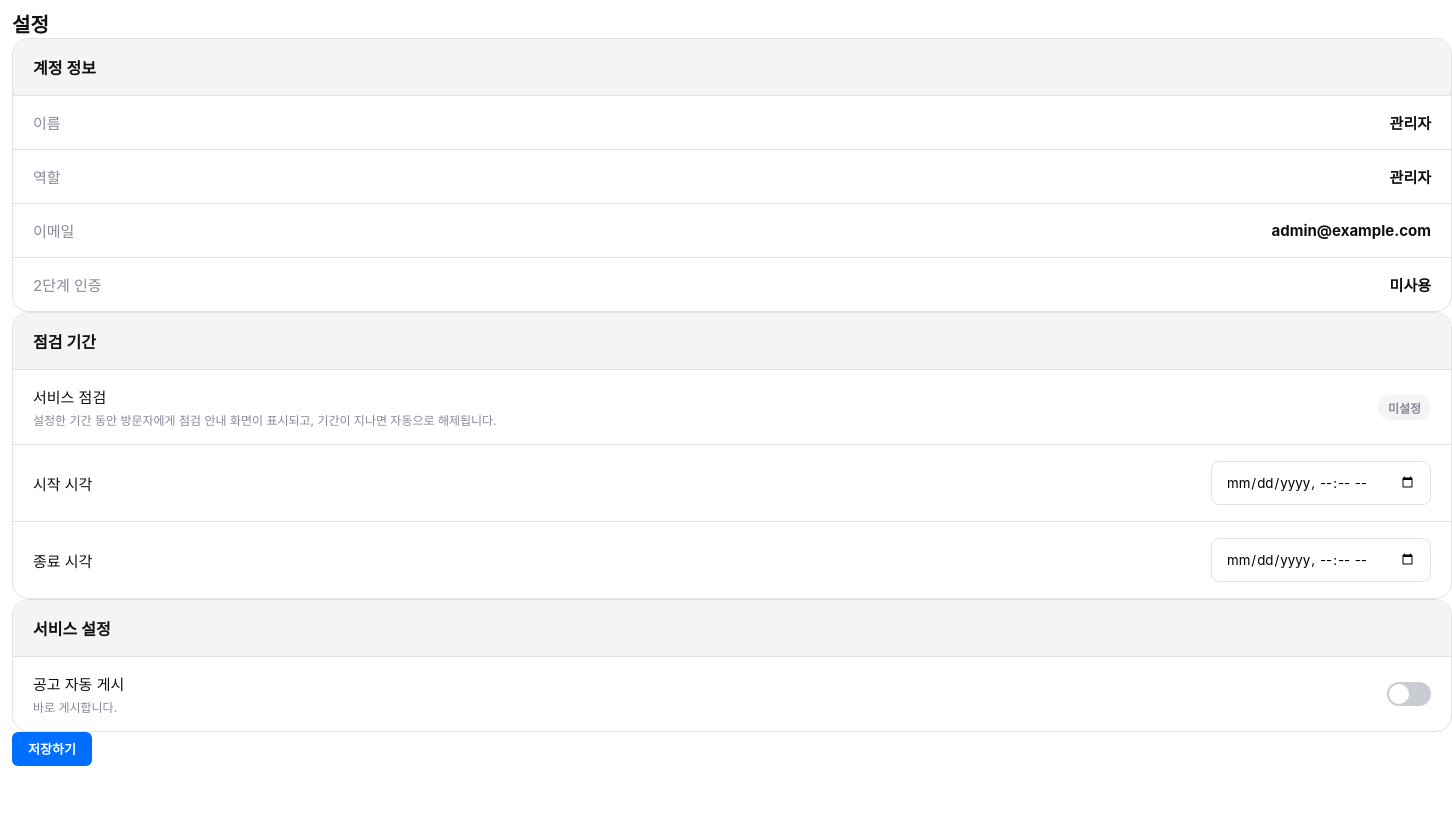
AdminSettingsScreen › 기간을 입력하는 동안 상태 배지가 입력값 기준으로 바뀐다
Check: the text "미설정" is shown, box [1378,394,1431,420]
Type "2099-02-02T01:00" into the field named "점검 시작 시각" at (1321, 483), box [1211,461,1431,505]
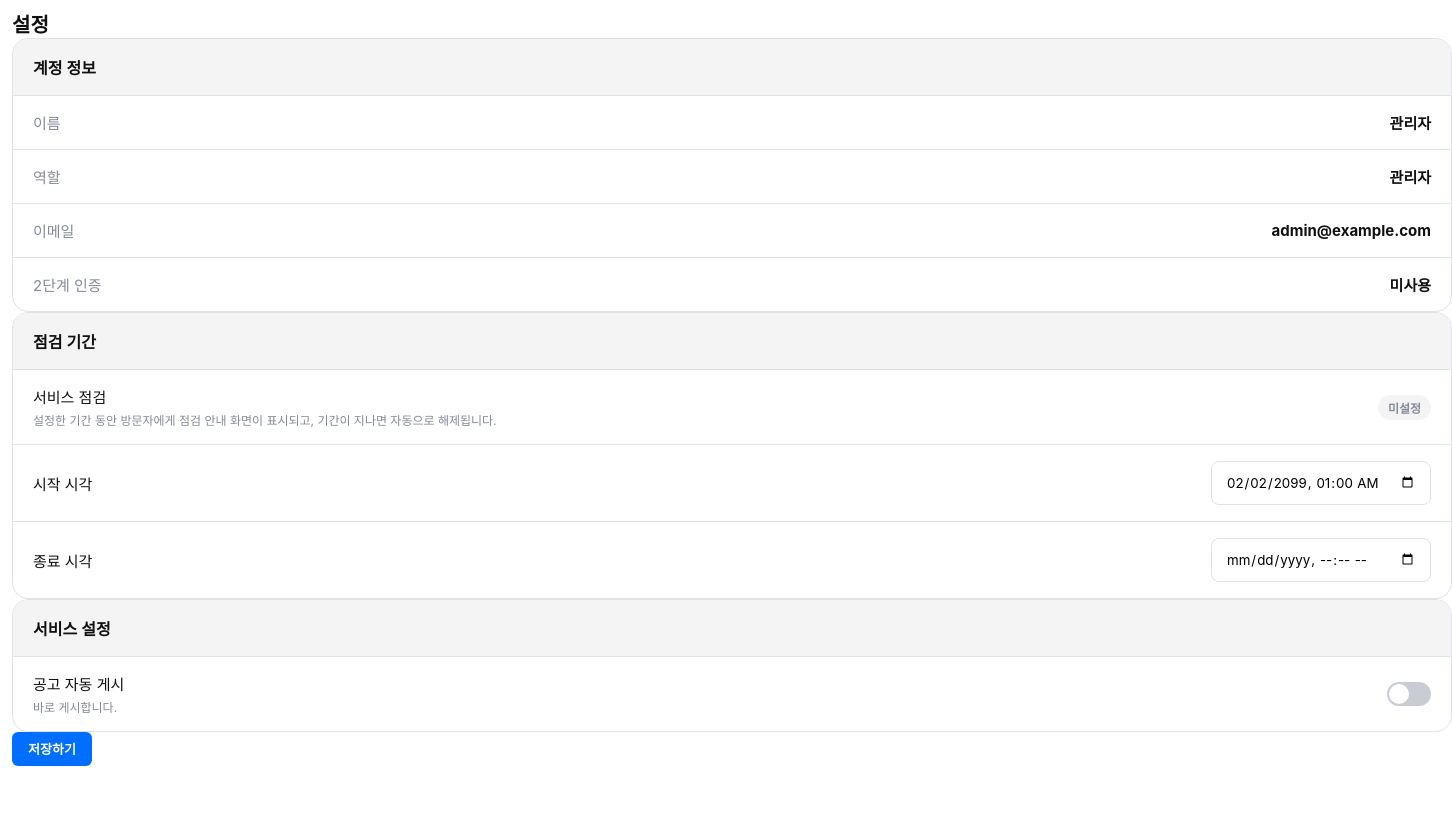
Type "2099-02-02T03:00" into the field named "점검 종료 시각" at (1321, 560), box [1211,538,1431,582]
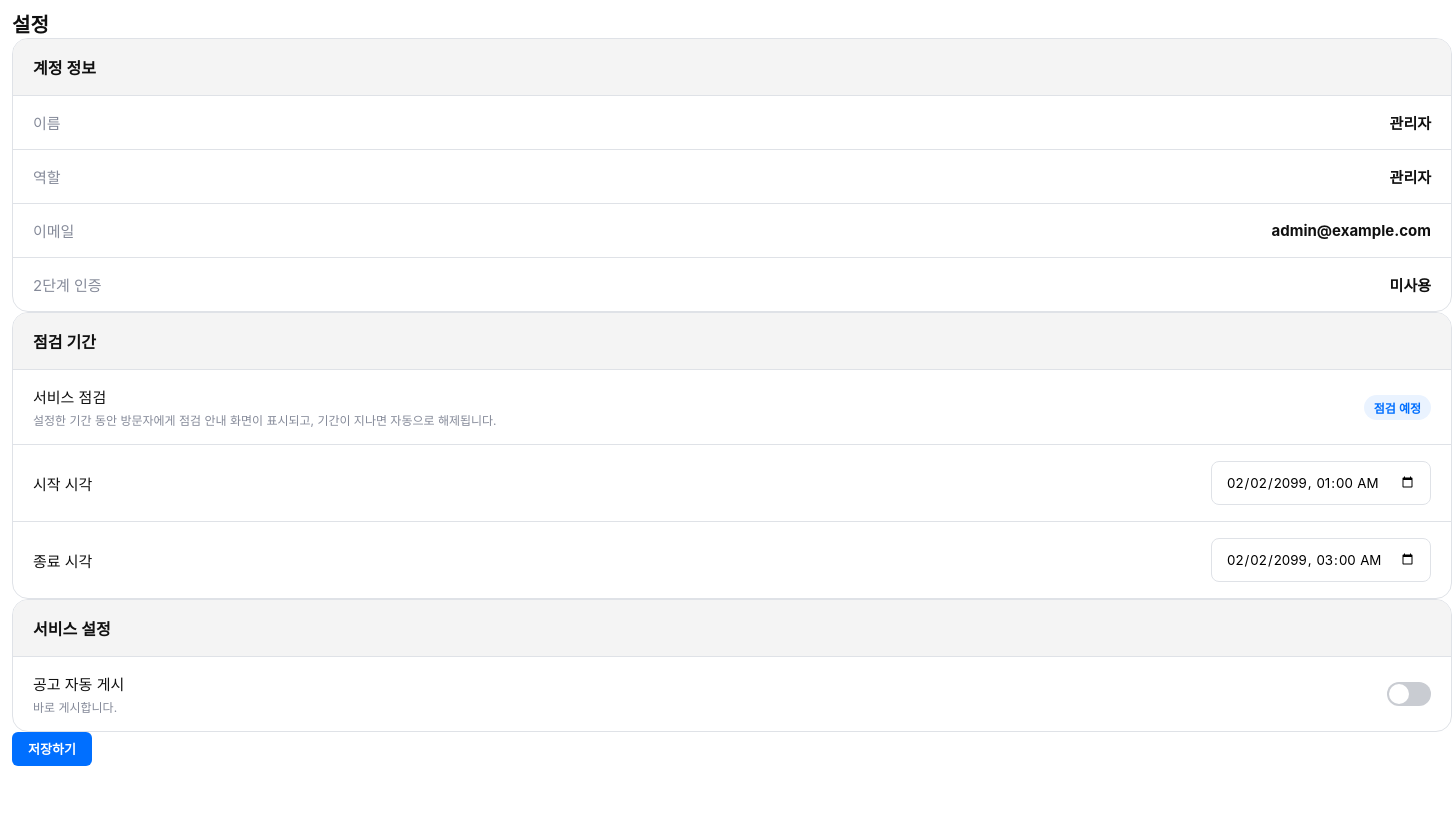
Check: the text "점검 예정" is shown, box [1364,394,1431,420]
